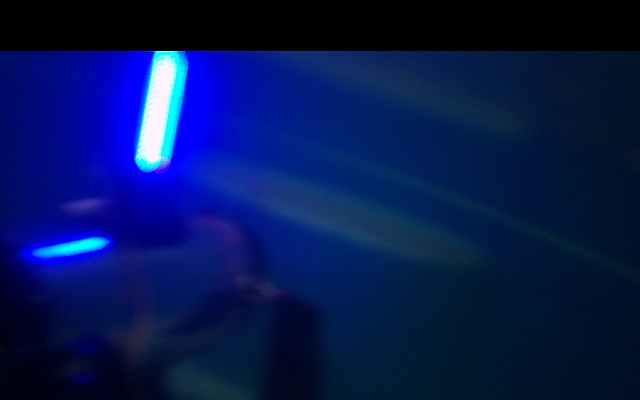blue: (134, 50, 187, 172)
